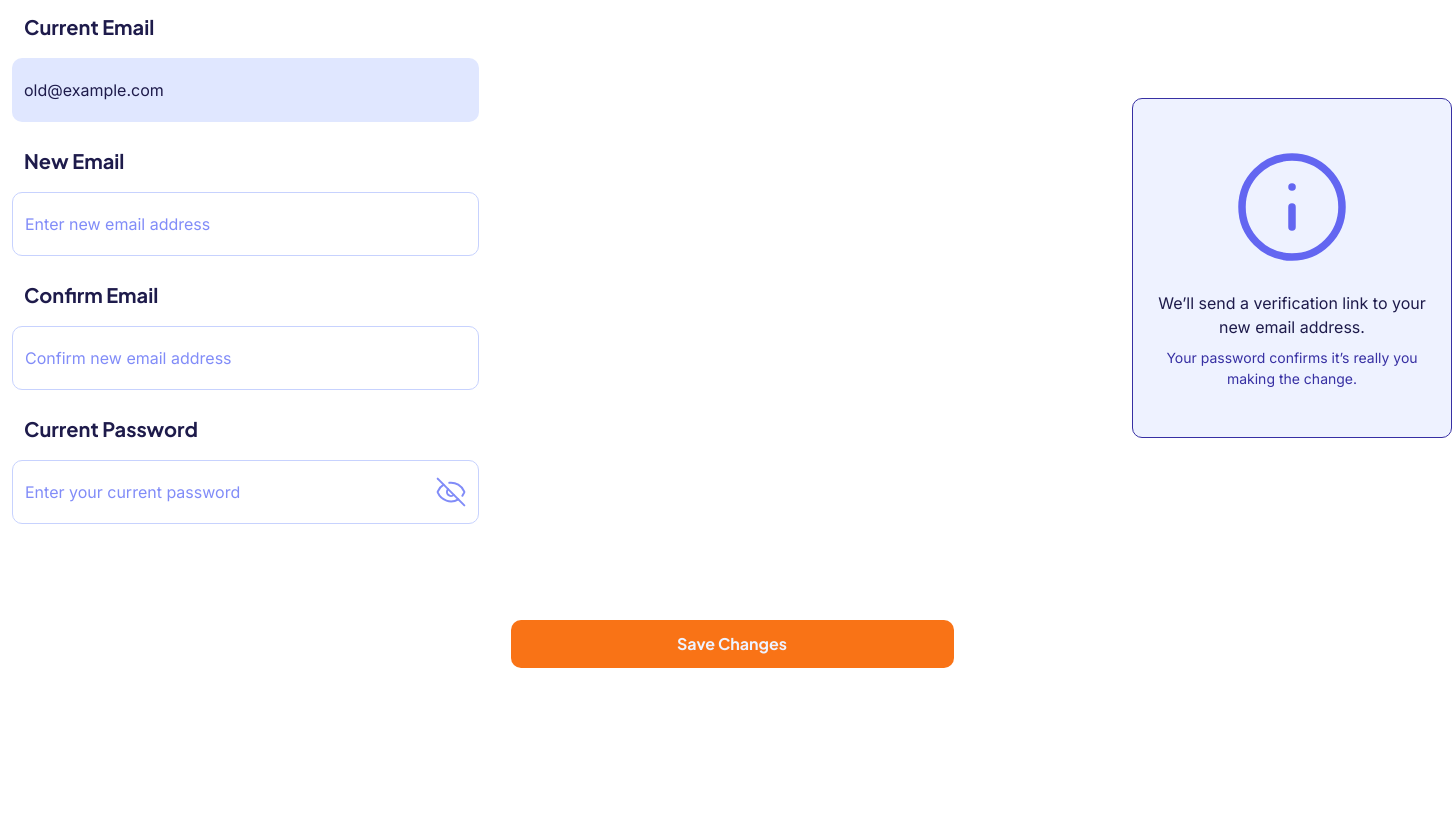
UpdateEmailForm — submitting › names the reason under the offending field and flags it
Type "not-an-email" into the field labelled "New Email" at (246, 224), box [12,192,479,256]
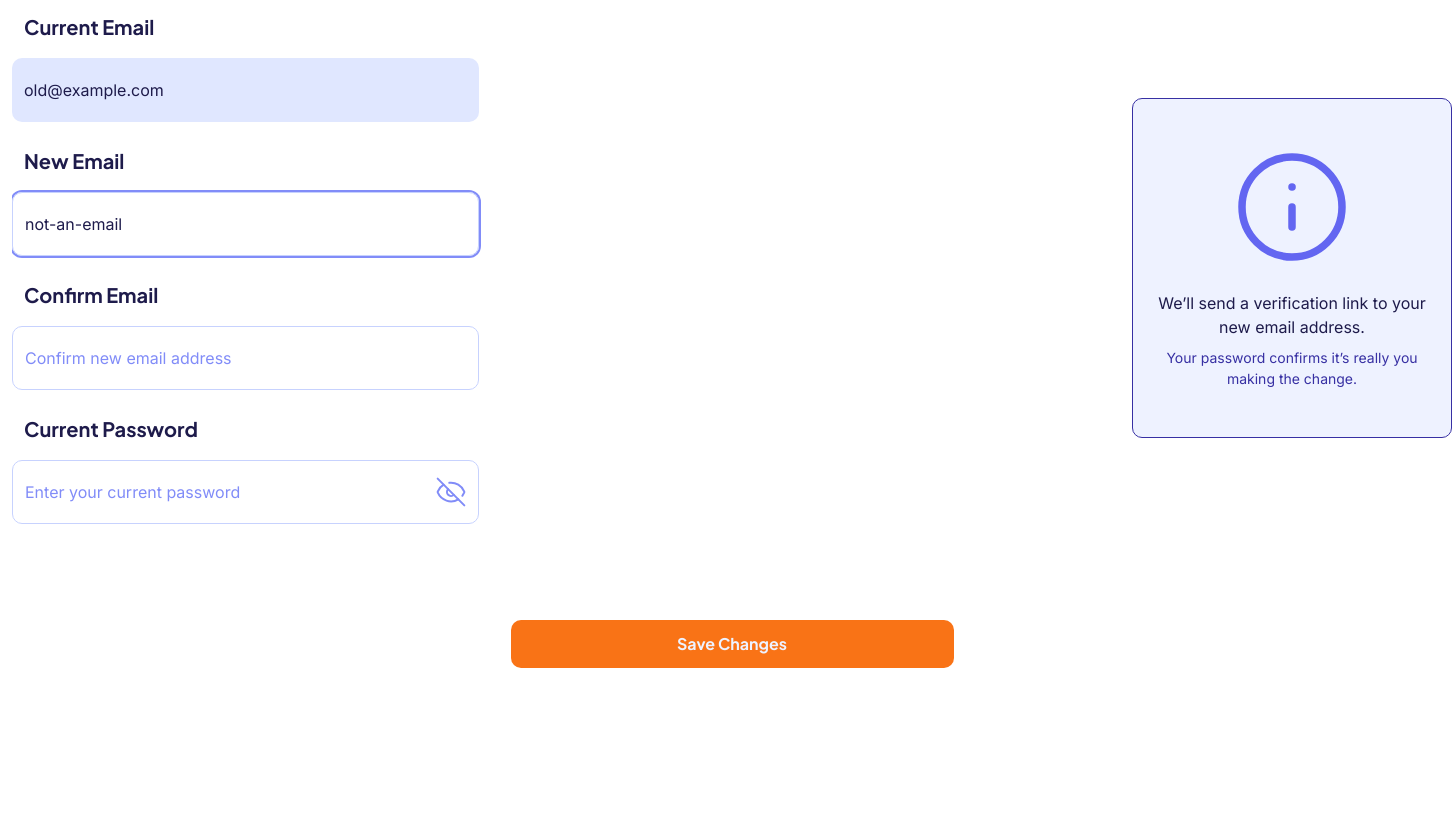
Type "not-an-email" into the field labelled "Confirm Email" at (246, 358), box [12,326,479,390]
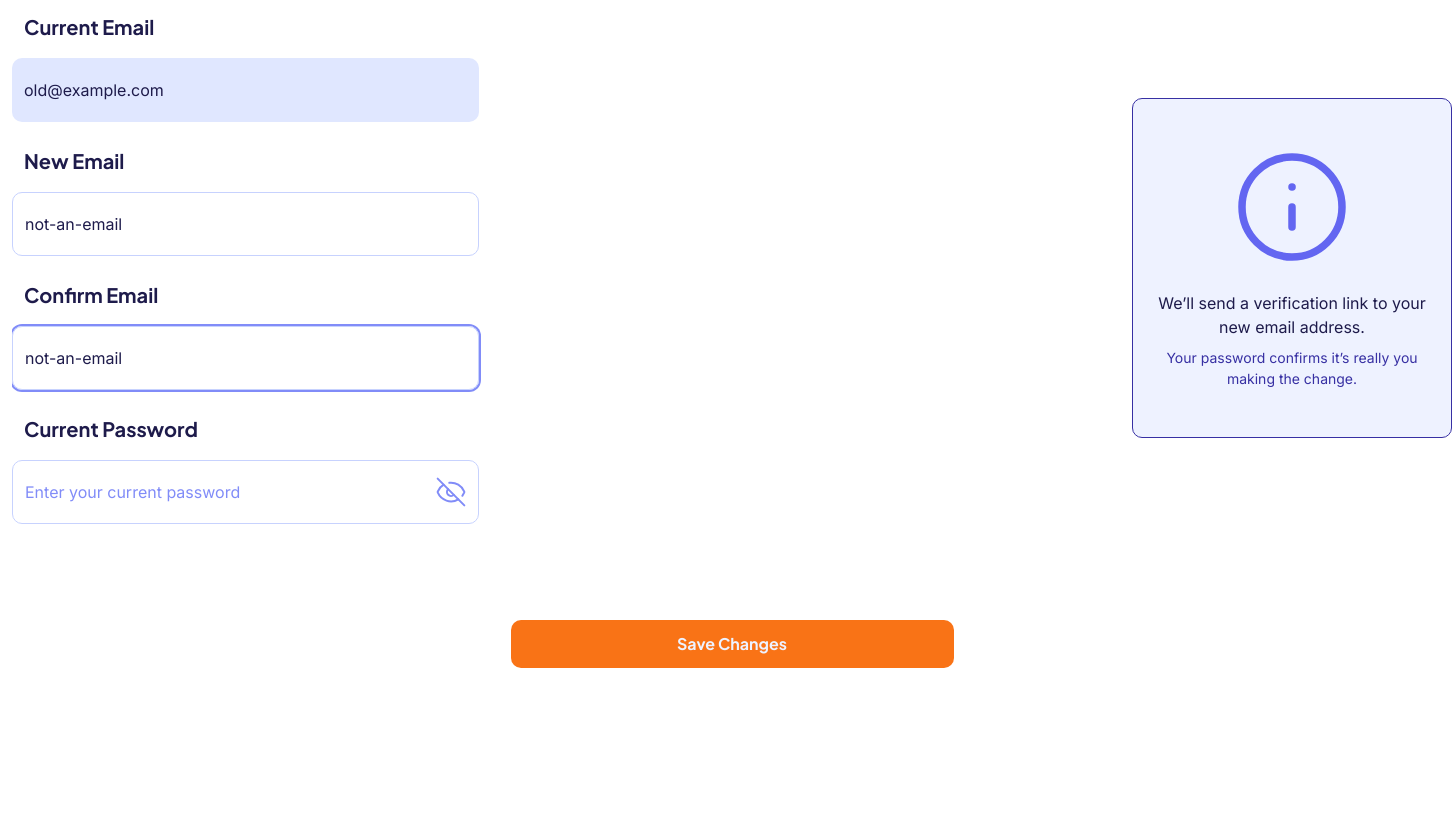
Type "OldPassw0rd" into the password field labelled "Current Password" at (246, 492), box [12,460,479,524]
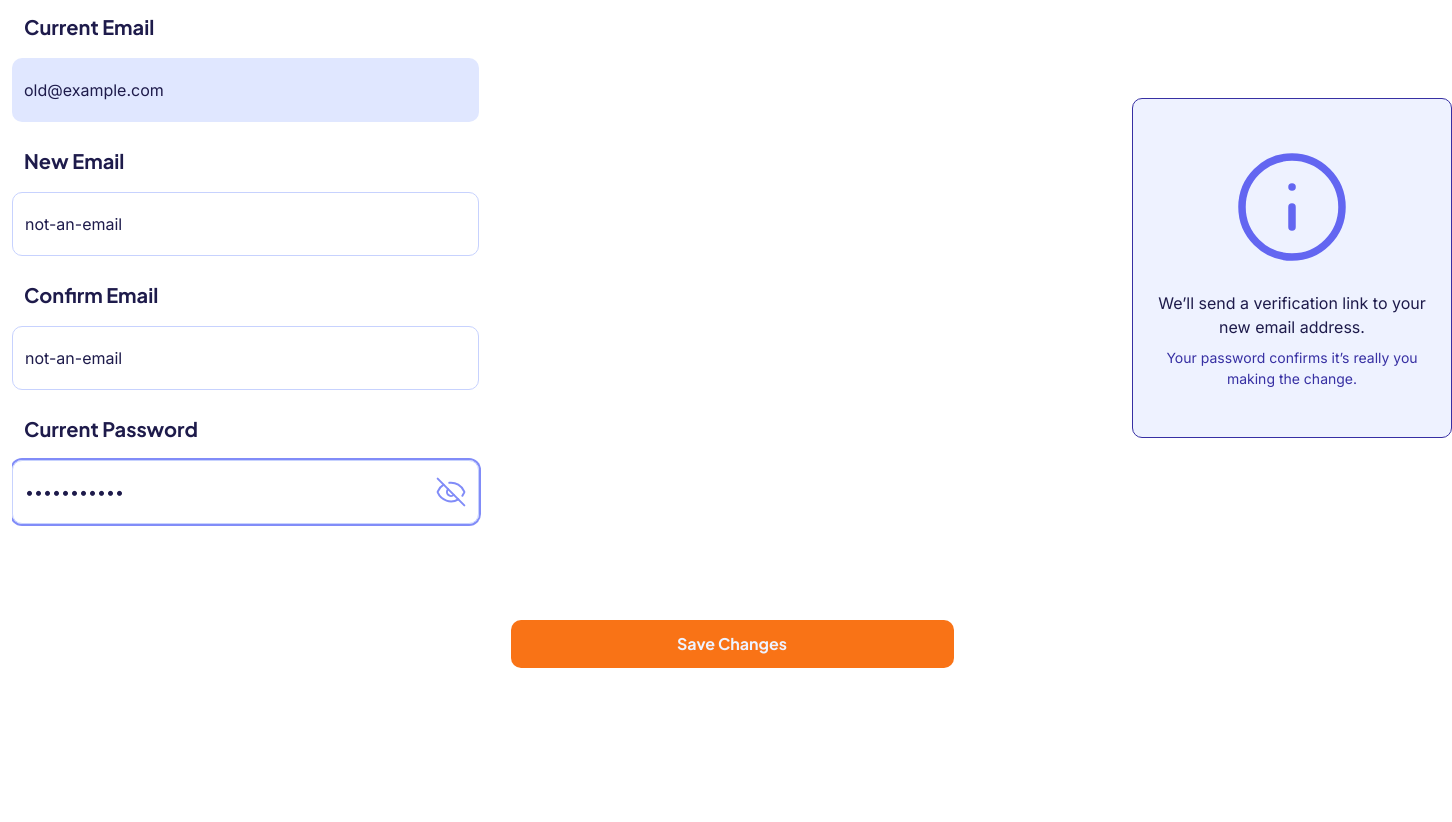
Click the button "Save Changes" at (732, 644), box [510,620,954,668]
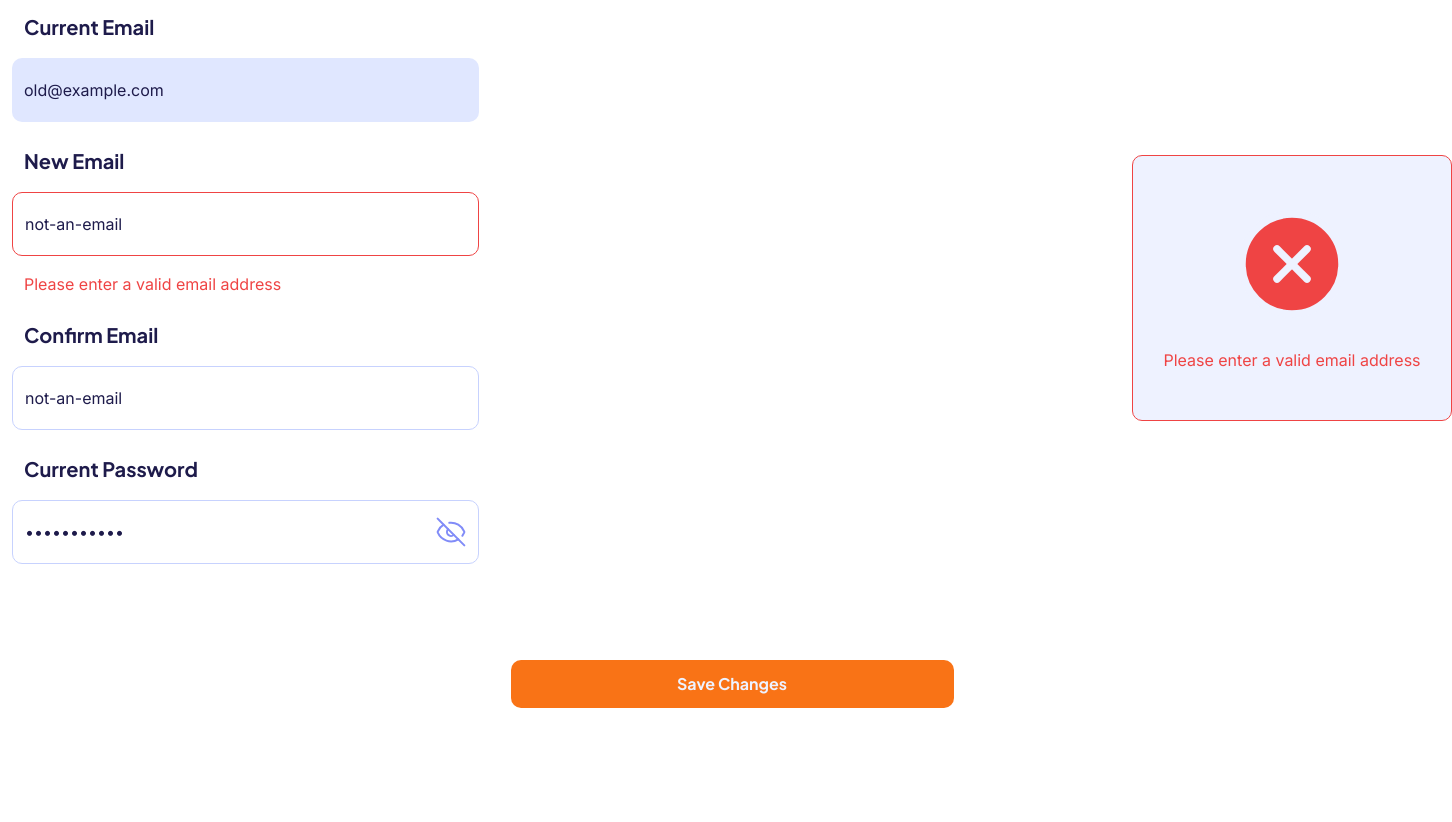
Result: the text "Please enter a valid email address" is shown 2 times at [24,274,281,294]; [1163,348,1420,372]
